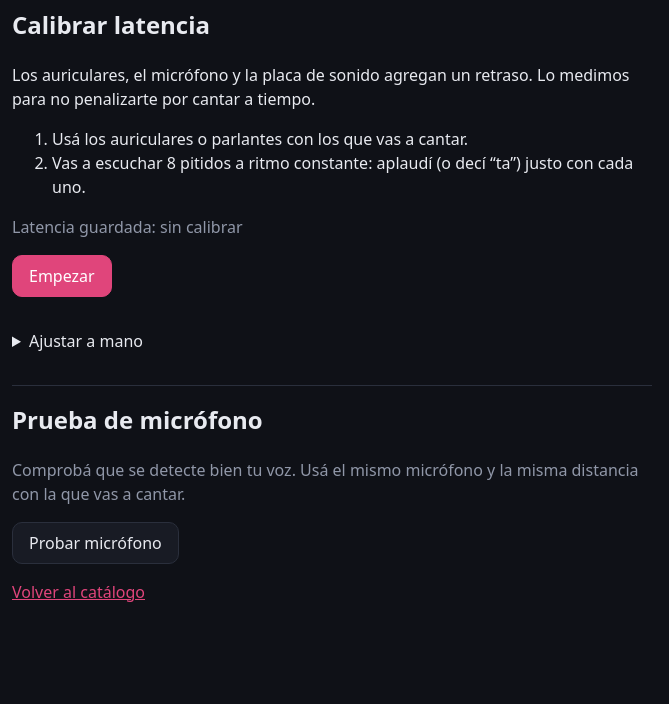
CalibrationPage › measures and saves the latency
Check: the text "Latencia guardada: sin calibrar" is shown, box [12,216,242,238]
Click the button "Empezar". click: [62, 276]
box: [12,255,112,297]
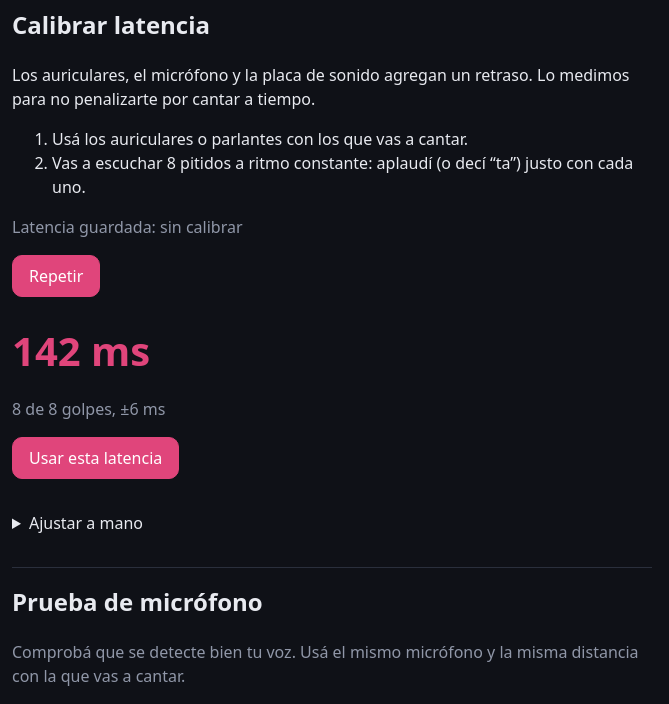
Check: the text "142 ms" is shown, box [12,323,150,378]
Check: the text "8 de 8 golpes, ±6 ms" is shown, box [12,398,165,420]
Click the button "Usar esta latencia". click: [96, 458]
box: [12,437,179,479]
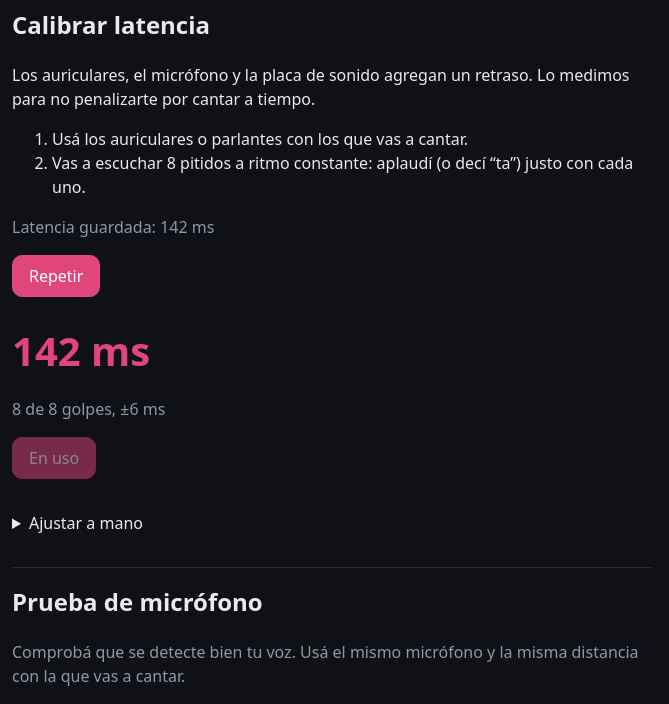
Check: the text "Latencia guardada: 142 ms" is shown, box [12,216,214,238]
Check: the button "En uso" is disabled, box [12,437,96,479]
